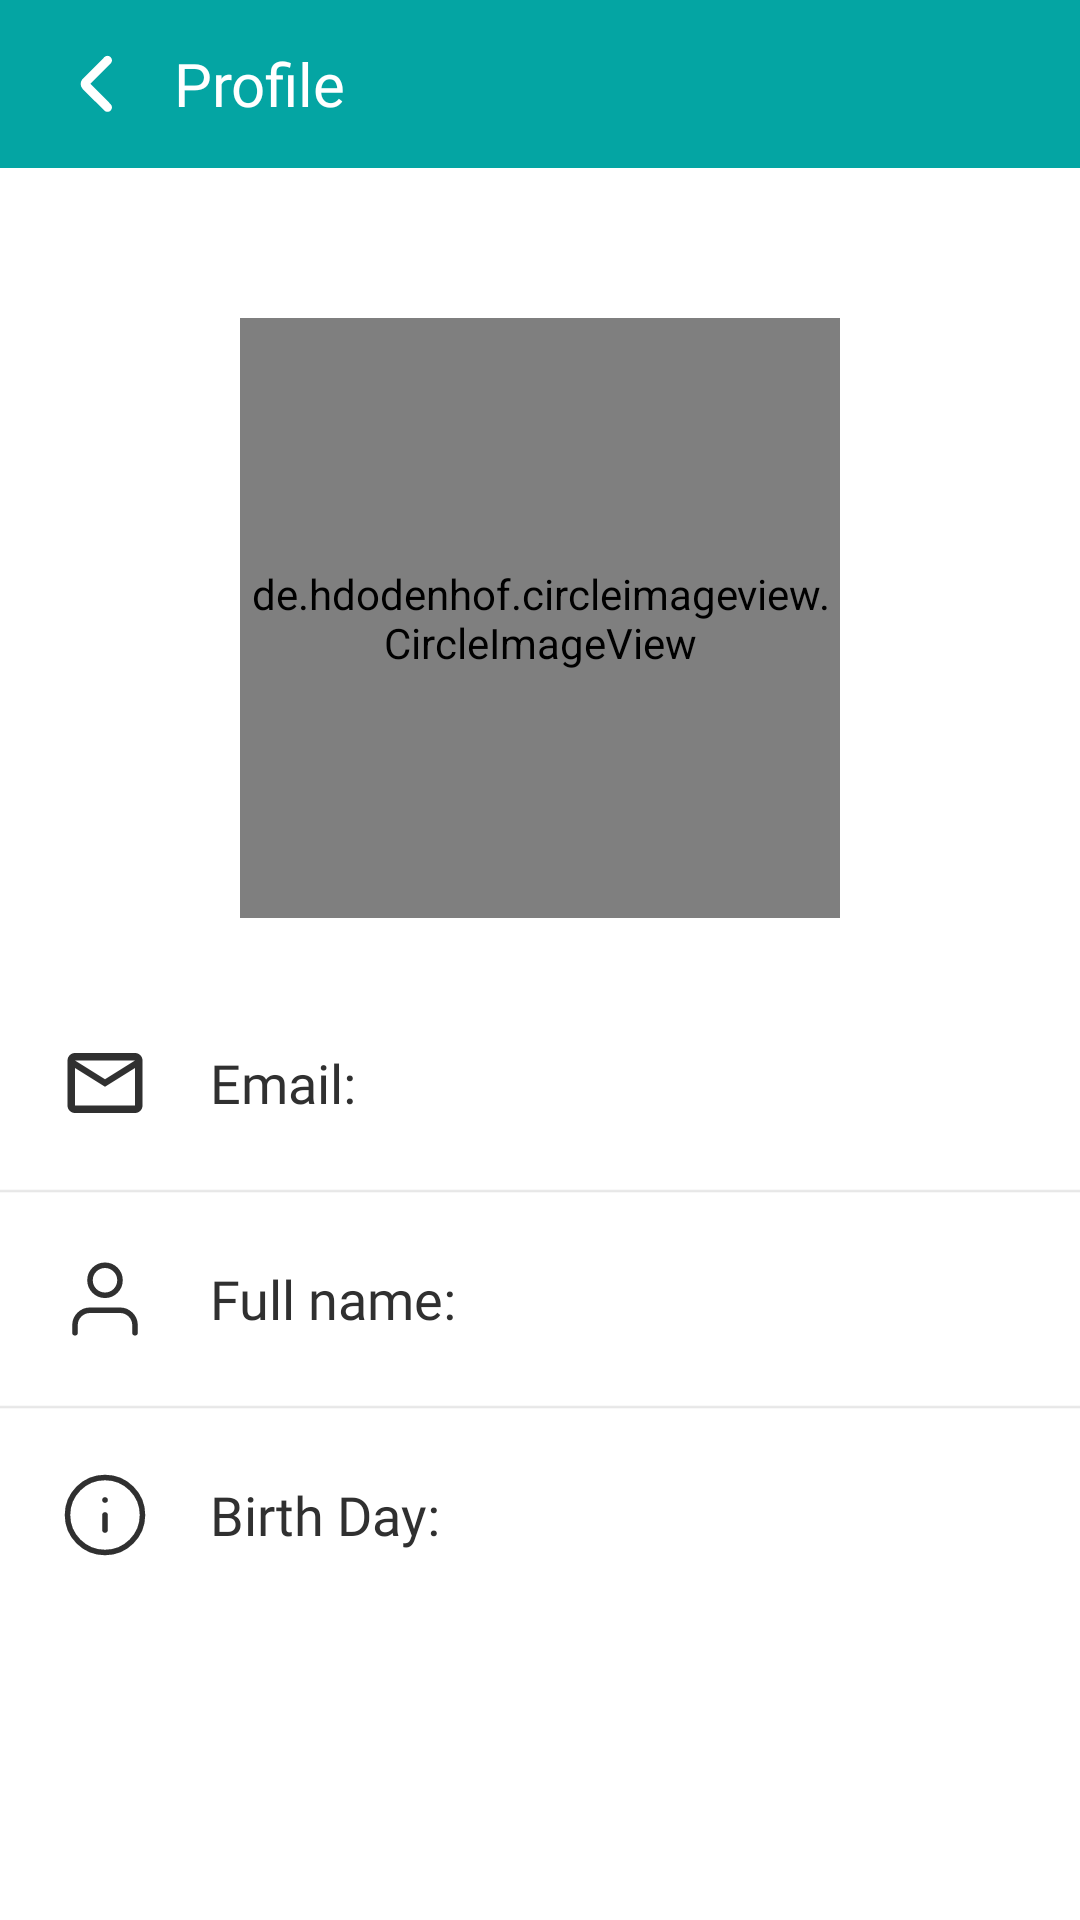

Screen size 1080px x 1920px. Icon name, then its center in pixels as (x,y):
back: (96,83)
human: (105,1299)
infor: (105,1515)
